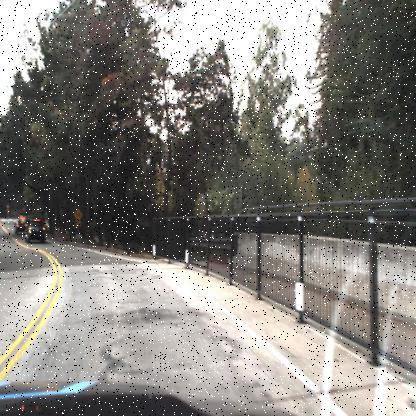car: (23, 218, 46, 244), (14, 217, 24, 235)
